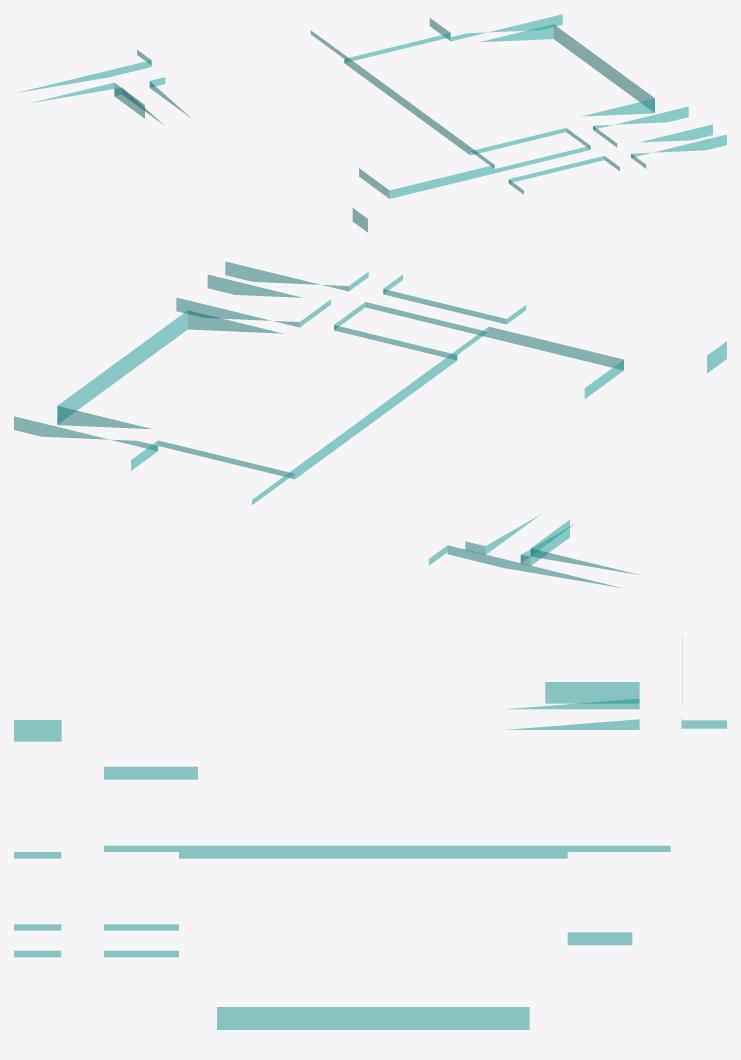
Rendered from OsakaPlatformWalls.fbx.
3 views of the same model, one above another, from view 1: azimuth 30°, elevation 25°; view 2: azimuth 150°, elevation 25°; view 3: azimuth 270°, elevation 25° (orthographic). The views are drawn at different scales.
Visible parts, largest first — view 1: PlatformWalls; view 2: PlatformWalls; view 3: PlatformWalls.
Part boxes in pixels (box(x1,y1,x2,y2)): PlatformWalls: box(17, 14, 726, 232); PlatformWalls: box(14, 261, 726, 587); PlatformWalls: box(14, 636, 726, 1029).
Size of the model in its own units: 10014 by 540 by 7850.
